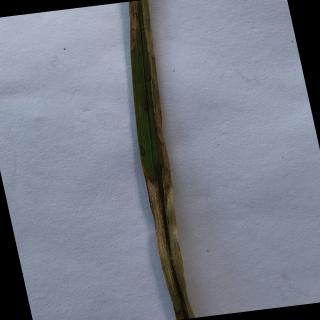Hawar-Daun: (147, 180, 196, 320), (143, 0, 173, 179), (128, 0, 137, 49)
